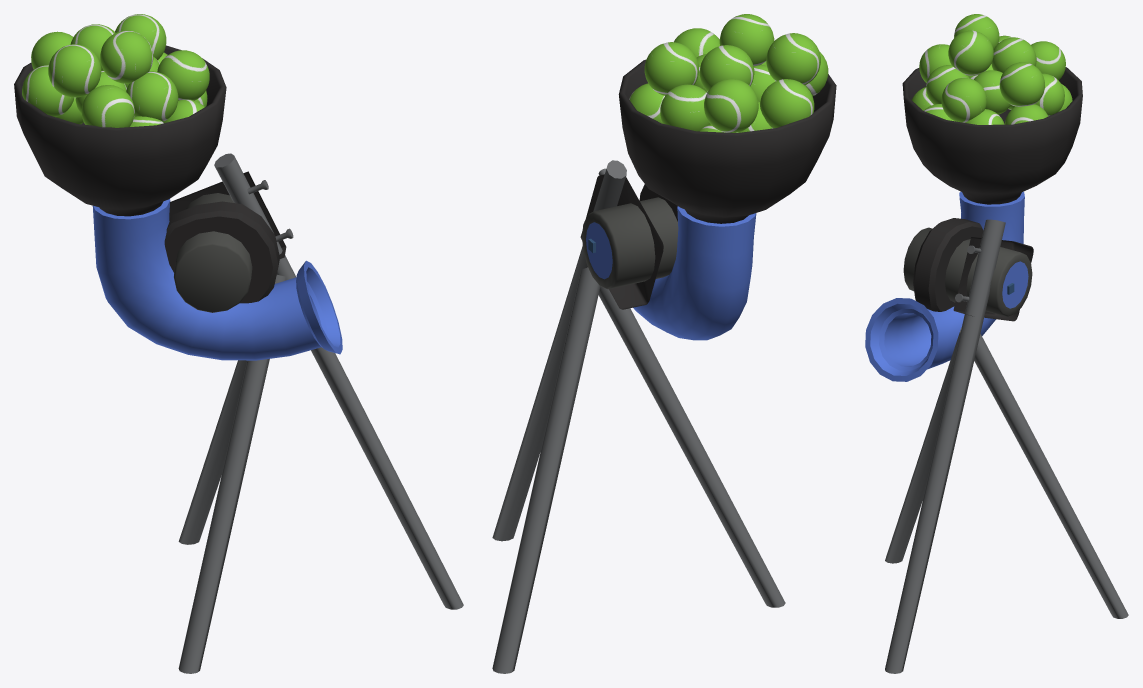
Rendered from Pushka.fbx.
3 views of the same model, side by side, from view 1: azimuth 30°, elevation 25°; view 2: azimuth 150°, elevation 25°; view 3: azimuth 270°, elevation 25° (orthographic). The views are drawn at different scales.
Visible parts, largest first — view 1: Cylinder.001; view 2: Cylinder.001; view 3: Cylinder.001.
Part boxes in pixels (x1,y1,x2,y2): Cylinder.001: [14, 14, 463, 673]; Cylinder.001: [492, 14, 836, 673]; Cylinder.001: [865, 14, 1128, 673].
Size of the model in its own units: 288 by 445 by 205.
